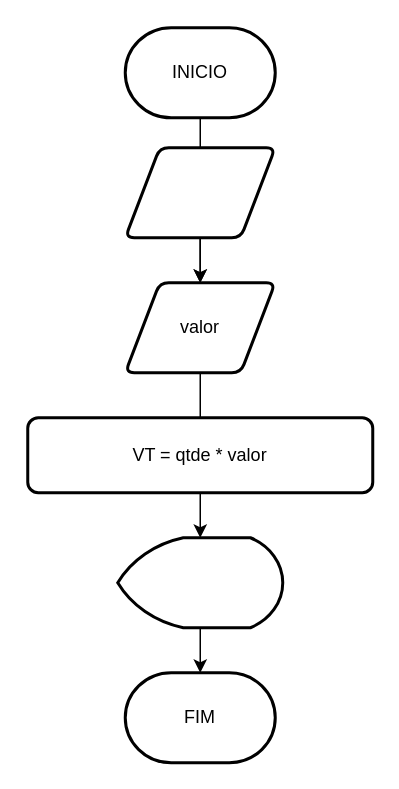
This 399x789 diagram has some shape labels left out. The centre of each missing label's shape, as x and y in pixels:
qtde: the point at 199,192
VT: the point at 200,582
